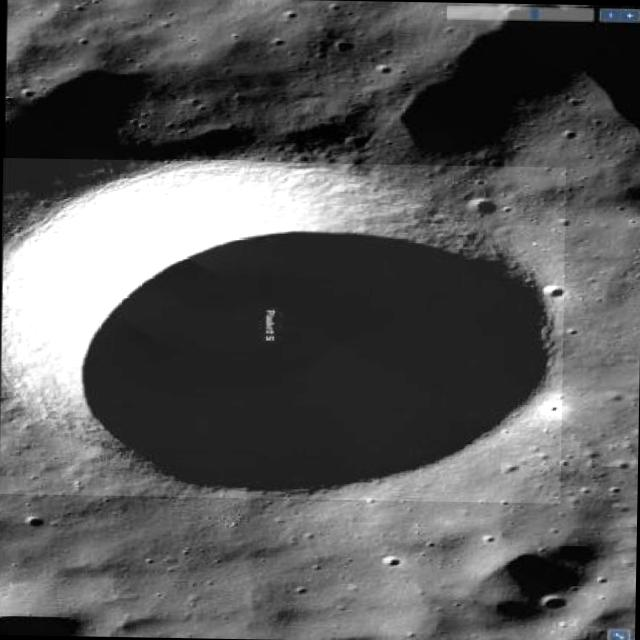crater: (0, 157, 566, 503), (465, 198, 499, 219)
